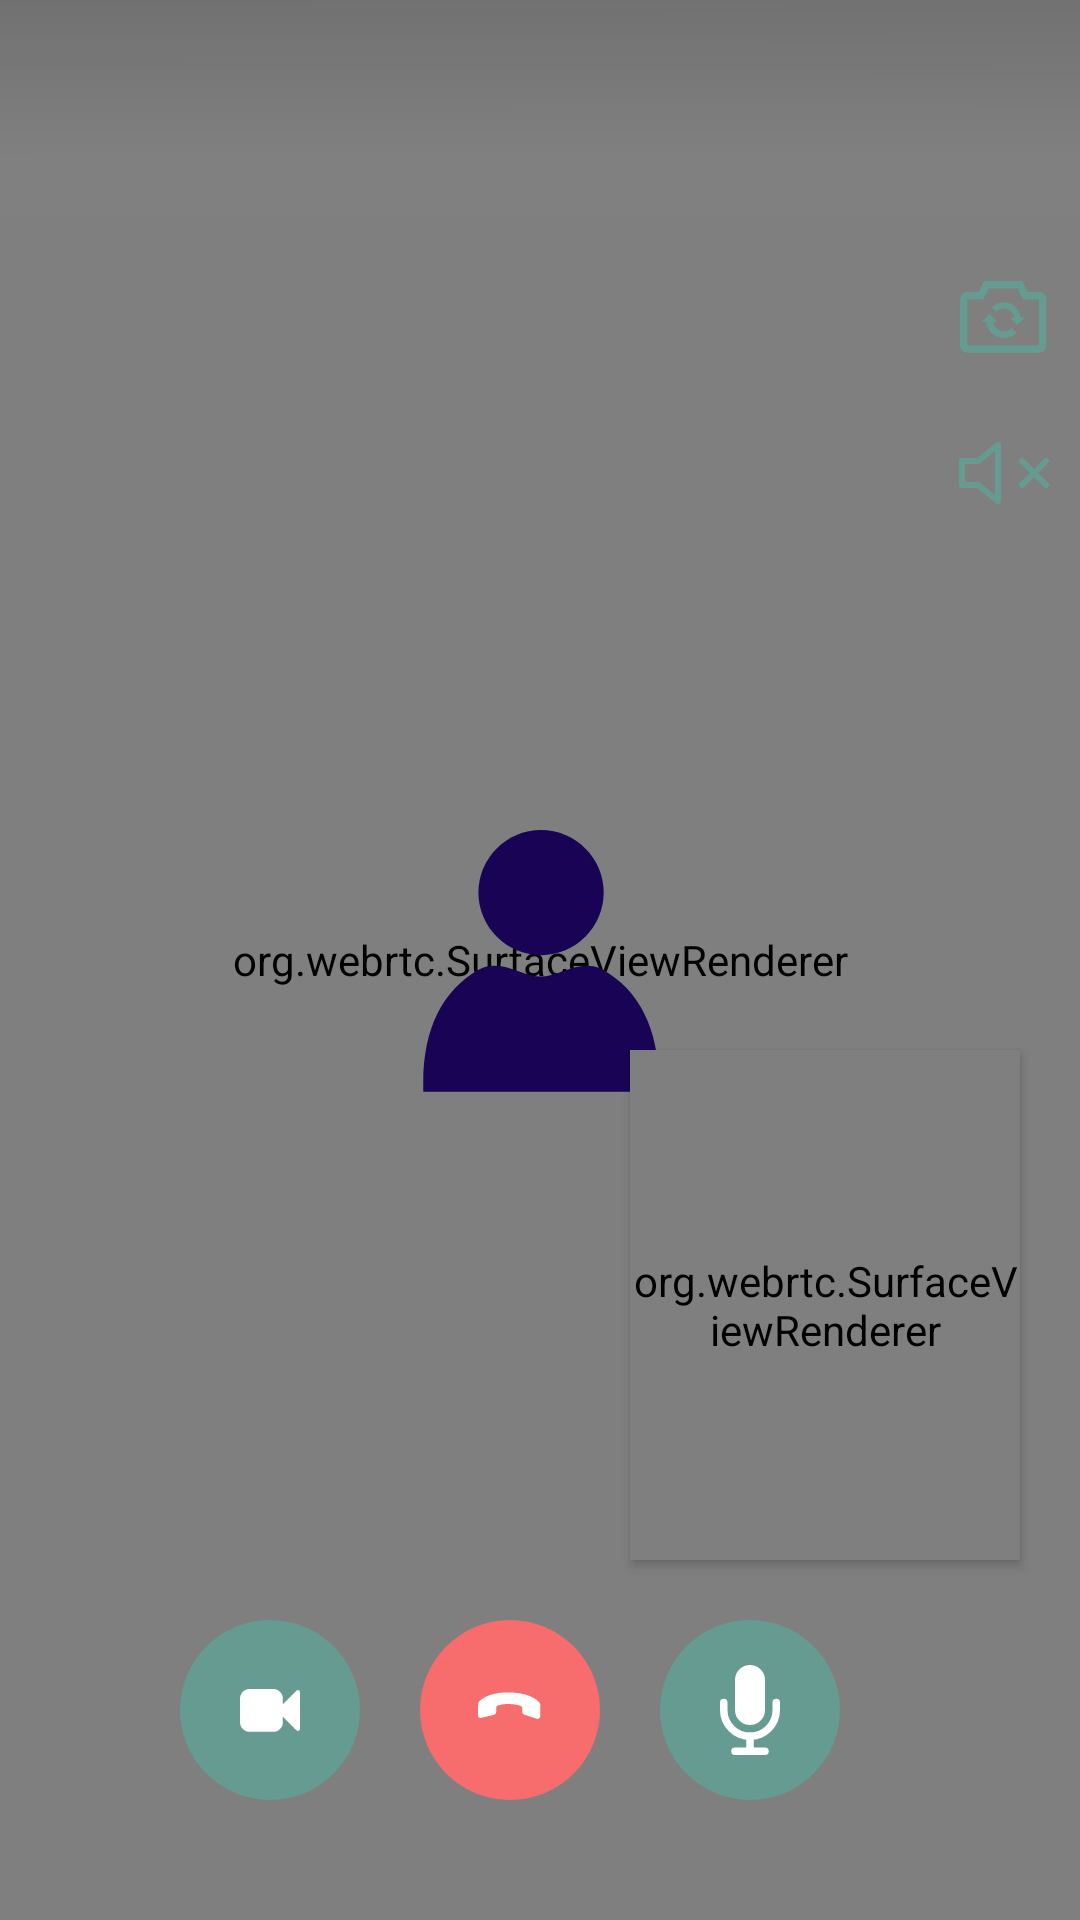

Icon bounding boxes for this 1080px x 1920px phone screenshot, format [x1=x1, y1=y1, x2=x2, y2=y2]:
call video rounded: [x1=180, y1=1620, x2=360, y2=1800]
cam switch: [x1=960, y1=281, x2=1046, y2=352]
end call: [x1=420, y1=1620, x2=600, y2=1800]
speaker off: [x1=959, y1=442, x2=1049, y2=504]
unmute mic: [x1=660, y1=1620, x2=840, y2=1800]
